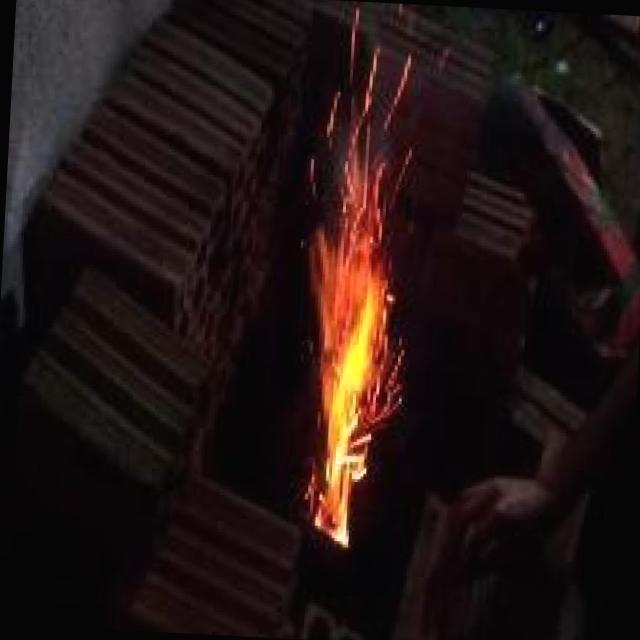fire: (247, 44, 460, 582)
